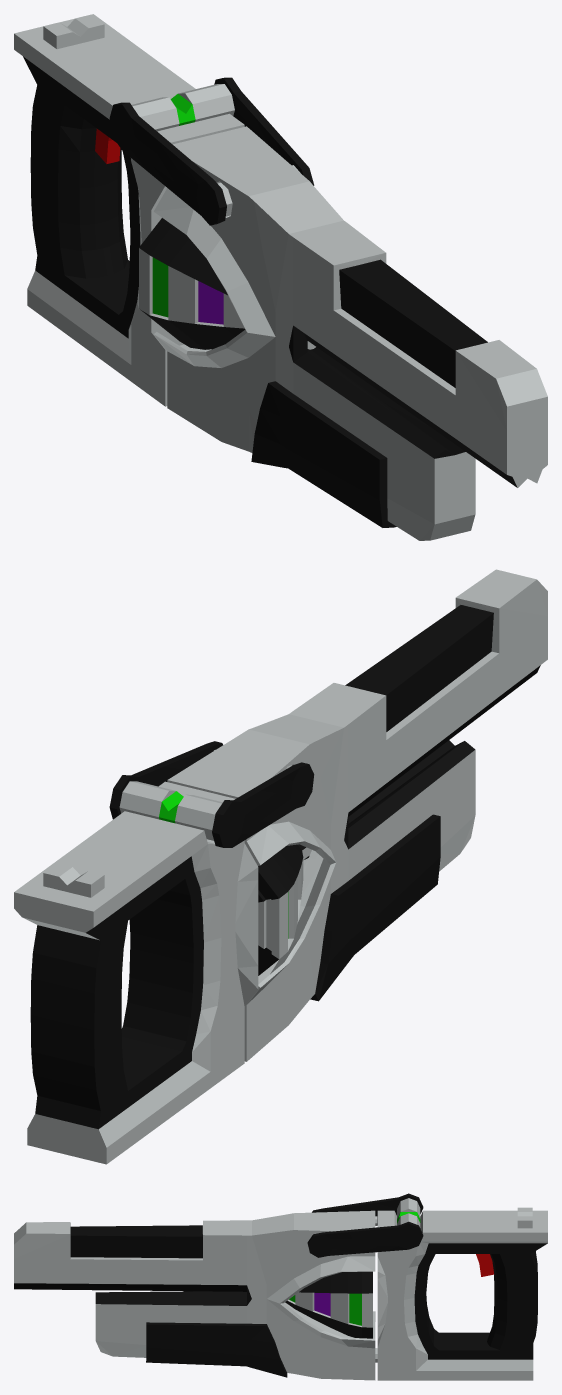
Rendered from drillgun.obj.
The picture shows the model from 3 angles, top to bottom: view 1: azimuth 30°, elevation 25°; view 2: azimuth 150°, elevation 25°; view 3: azimuth 270°, elevation 25°; orthographic projection. The views are drawn at different scales.
Parts seen in each view (by area): view 1: Cube.001, Cube.005, Cube.002, Cube.003; view 2: Cube.001, Cube.005, Cube.002, Cube.003; view 3: Cube.001, Cube.005, Cube.002, Cube.003, Cube.004.
Part boxes in pixels (x1,y1,x2,y2): Cube.001: (154,126,547,540); Cube.005: (14,14,244,406); Cube.002: (109,77,314,225); Cube.003: (139,218,315,349); Cube.001: (167,569,547,1061); Cube.005: (14,781,258,1164); Cube.002: (109,741,314,847); Cube.003: (258,844,311,975); Cube.001: (14,1210,377,1380); Cube.005: (377,1207,547,1380); Cube.002: (307,1193,423,1257); Cube.003: (285,1271,372,1338); Cube.004: (476,1254,494,1276).
Size of the model in its own units: 1.85 by 3.59 by 10.8.
